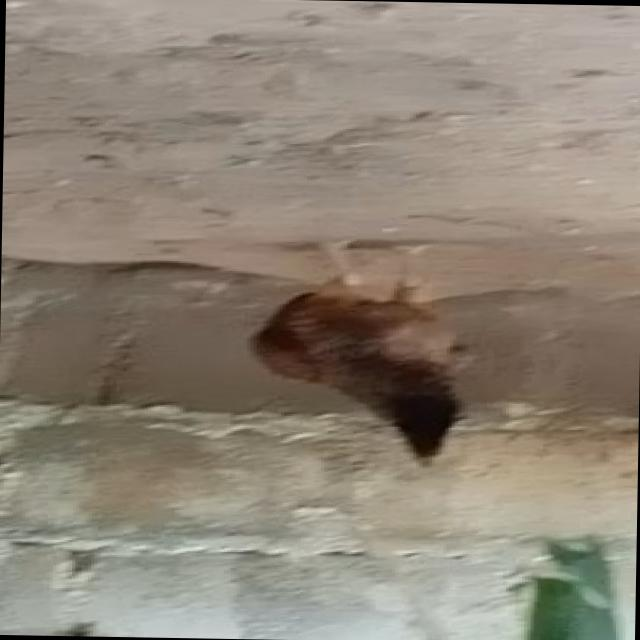stand bath: (238, 244, 508, 471)
